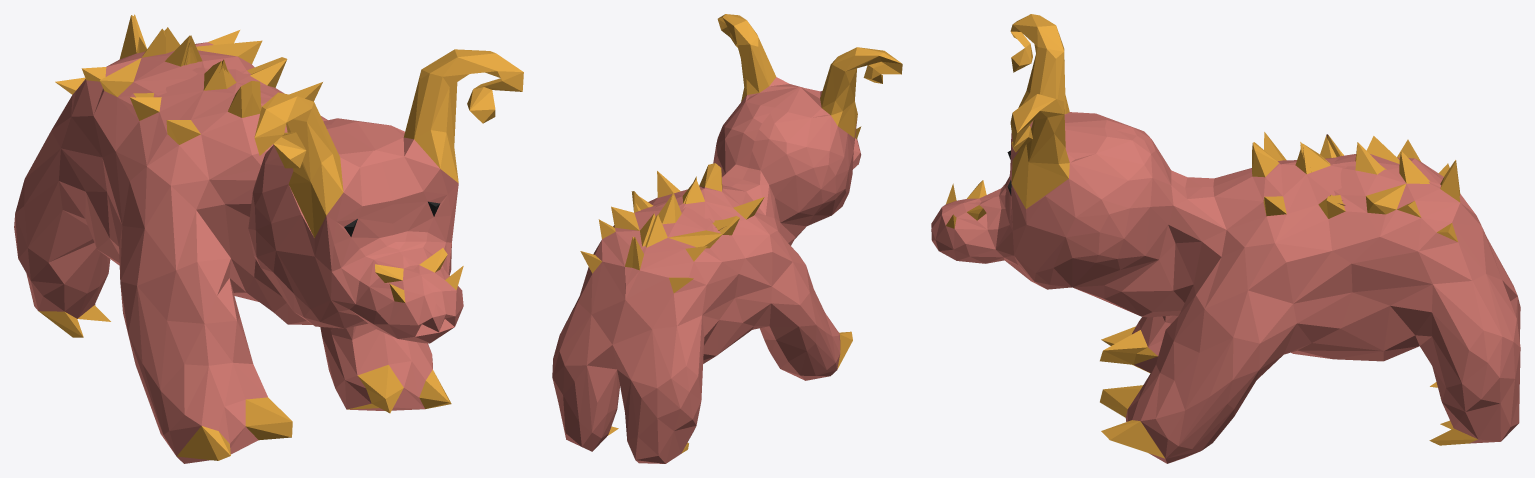
File: goat.fbx
3 renders of one model, left to right at view 1: azimuth 30°, elevation 25°; view 2: azimuth 150°, elevation 25°; view 3: azimuth 270°, elevation 25°, orthographic. The views are drawn at different scales.
Parts seen in each view (by area): view 1: him; view 2: him; view 3: him.
Boxes of the visible parts, box(x1,y1,x2,y2) form: him: box(14, 14, 523, 463); him: box(552, 14, 902, 463); him: box(931, 14, 1520, 463).
Size of the model in its own units: 388 by 576 by 855.
